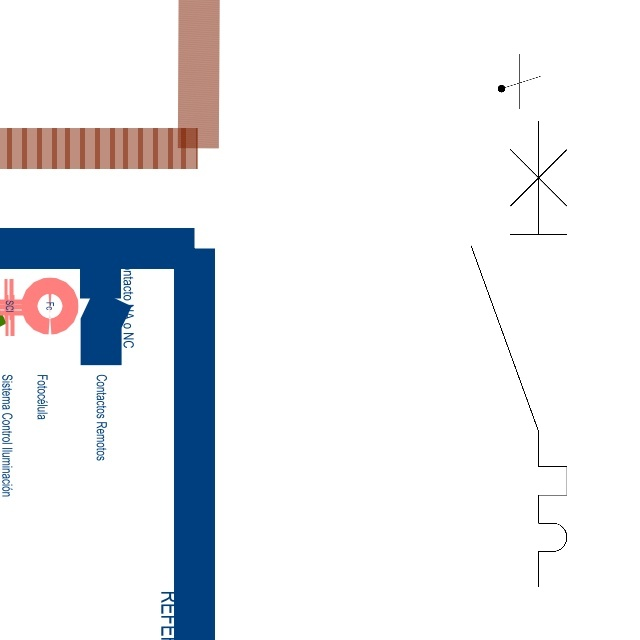interruptor_termomagnetico: (459, 109, 579, 599)
